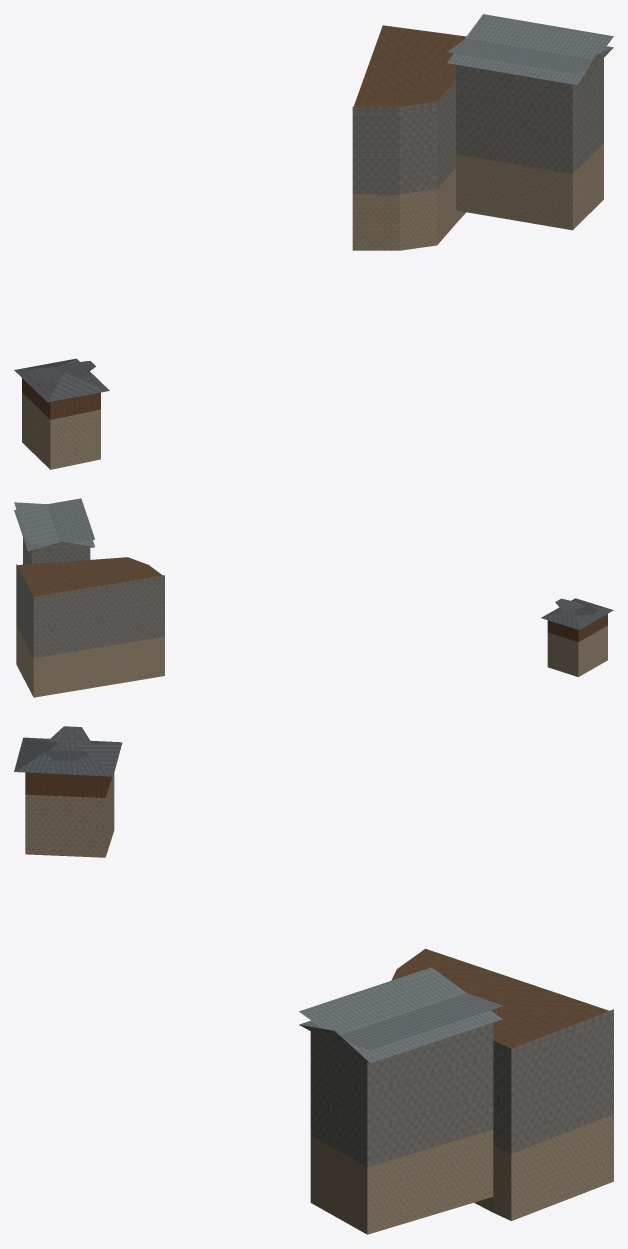
Rendered from bld_c38_36_289.gltf.
The picture shows the model from 3 angles, top to bottom: view 1: azimuth 30°, elevation 25°; view 2: azimuth 150°, elevation 25°; view 3: azimuth 270°, elevation 25°; orthographic projection. The views are drawn at different scales.
Parts seen in each view (by area): view 1: bld_c38_36_289; view 2: bld_c38_36_289; view 3: bld_c38_36_289.
Part boxes in pixels (<box>): bld_c38_36_289: <box>14,14,613,469</box>; bld_c38_36_289: <box>14,498,613,697</box>; bld_c38_36_289: <box>14,726,613,1234</box>.
Bounding box in the file's own units: 67.19 × 15.6 × 40.93.
7 materials, 7 textured.
